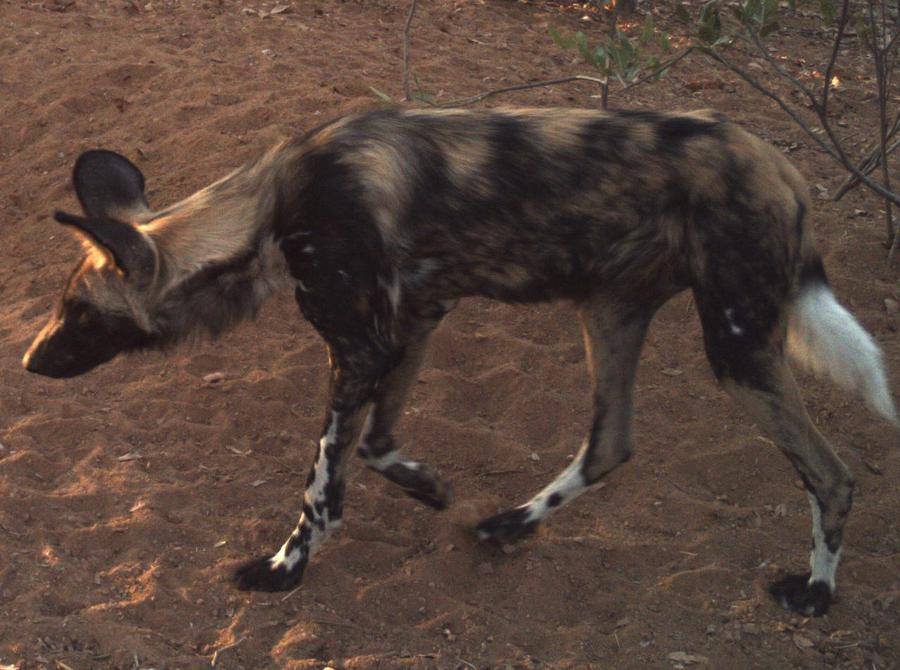wilddog: (87, 108, 825, 536)
